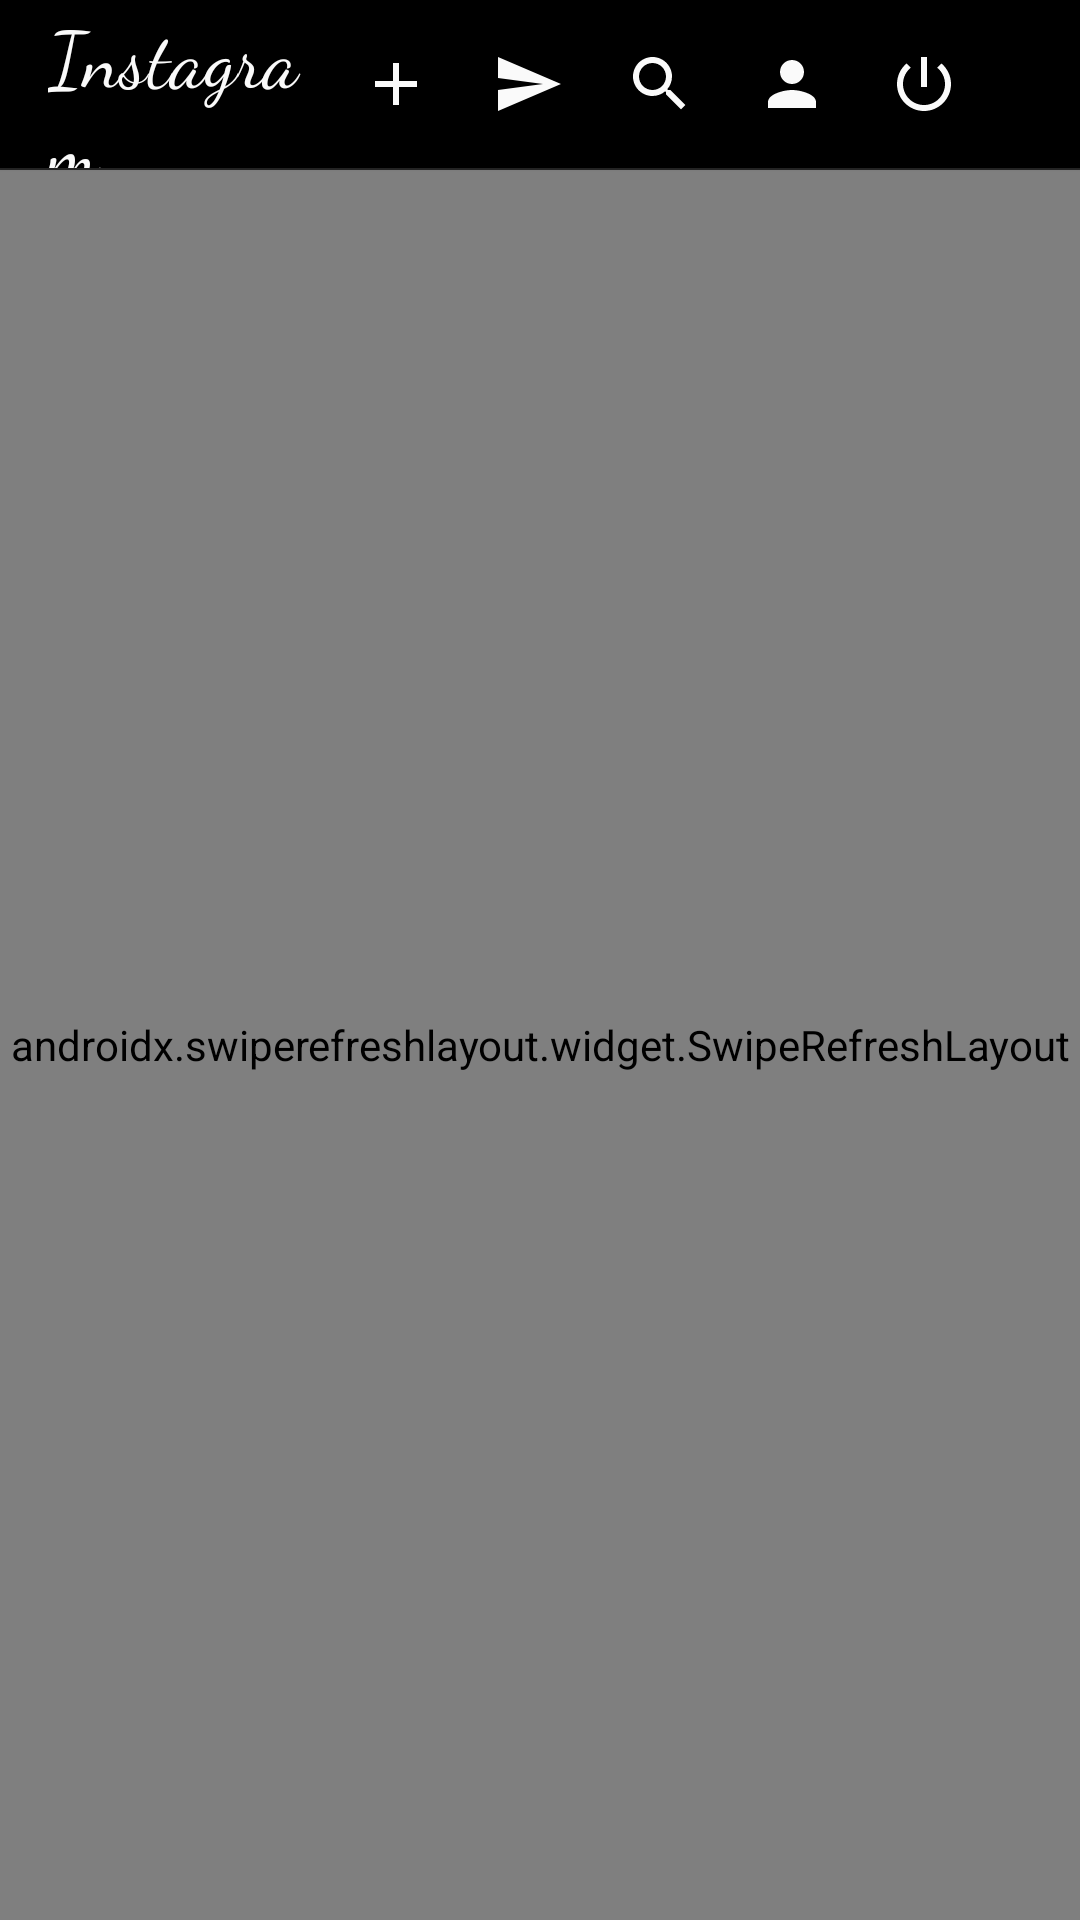

Icons on this 1080 x 1920 Android screen, each with its box as (x1, y1, x2, y2):
Ara: (633, 57, 685, 109)
Gönderi Ekle: (375, 63, 417, 105)
Mesajlar: (498, 57, 561, 111)
Profil: (768, 60, 816, 108)
